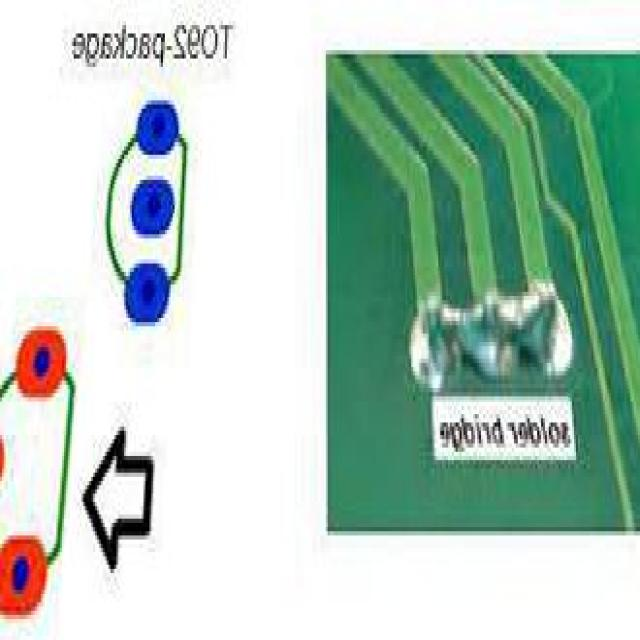Short_circuit: (406, 268, 568, 402)
